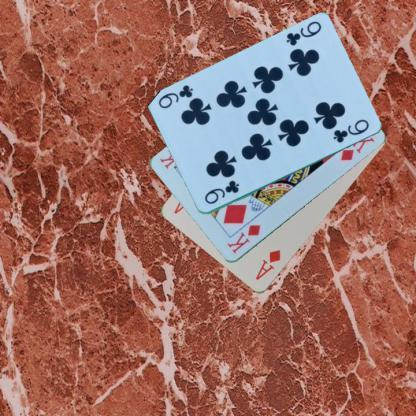9c: (283, 18, 323, 48), (202, 178, 240, 206)
Ad: (253, 248, 282, 282)
Kd: (224, 222, 262, 255)
